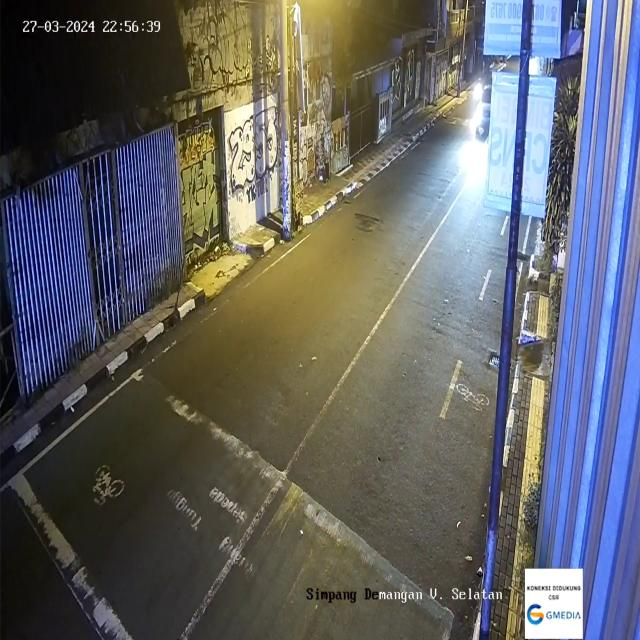car: (473, 85, 499, 138)
